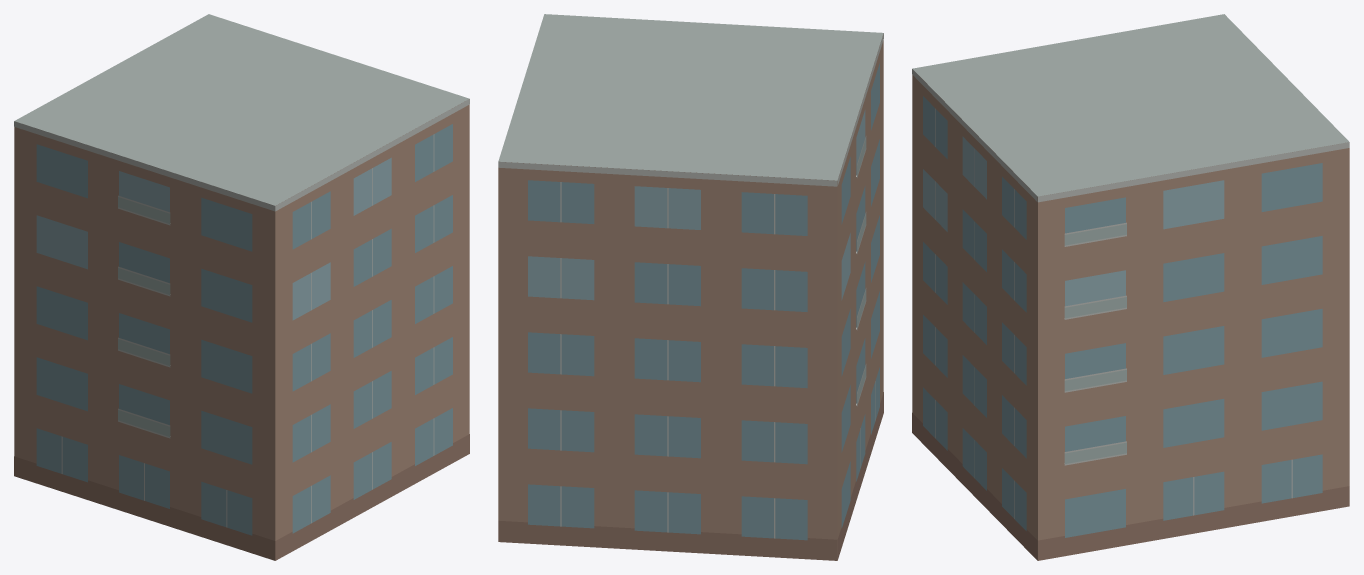
File: residential-0dc5a479-f6c3-4d3a-a284-f70d5e0f8a99.glb
3 views of the same model, side by side, from view 1: azimuth 30°, elevation 25°; view 2: azimuth 150°, elevation 25°; view 3: azimuth 270°, elevation 25° (orthographic). The views are drawn at different scales.
Parts seen in each view (by area): view 1: residential-0dc5a479-f6c3-4d3a-a284-f70d5e0f8a99.tmp; view 2: residential-0dc5a479-f6c3-4d3a-a284-f70d5e0f8a99.tmp; view 3: residential-0dc5a479-f6c3-4d3a-a284-f70d5e0f8a99.tmp.
Boxes of the visible parts, x1,y1,x2,y2 form: residential-0dc5a479-f6c3-4d3a-a284-f70d5e0f8a99.tmp: (14, 14, 469, 560); residential-0dc5a479-f6c3-4d3a-a284-f70d5e0f8a99.tmp: (498, 14, 883, 560); residential-0dc5a479-f6c3-4d3a-a284-f70d5e0f8a99.tmp: (912, 14, 1349, 560).
Bounding box in the file's own units: 16.4 × 15.25 × 16.61.
